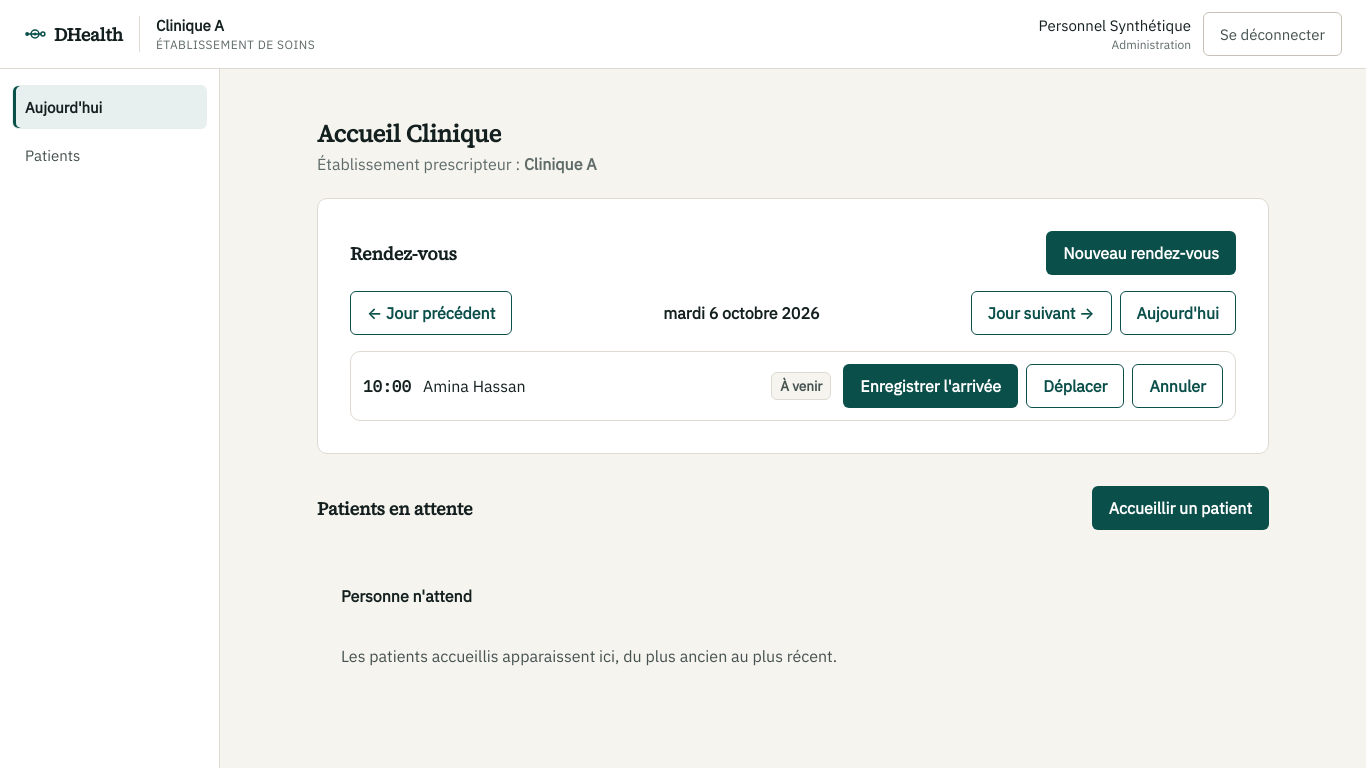
Scenario: ClinicAppointments — arrival › reports a patient who already has an active visit without claiming a failure
Check: the heading "Rendez-vous" is shown, box [350,240,457,266]
Step 1. Click the button "Enregistrer l'arrivée" → click(931, 386), box [843,364,1018,408]
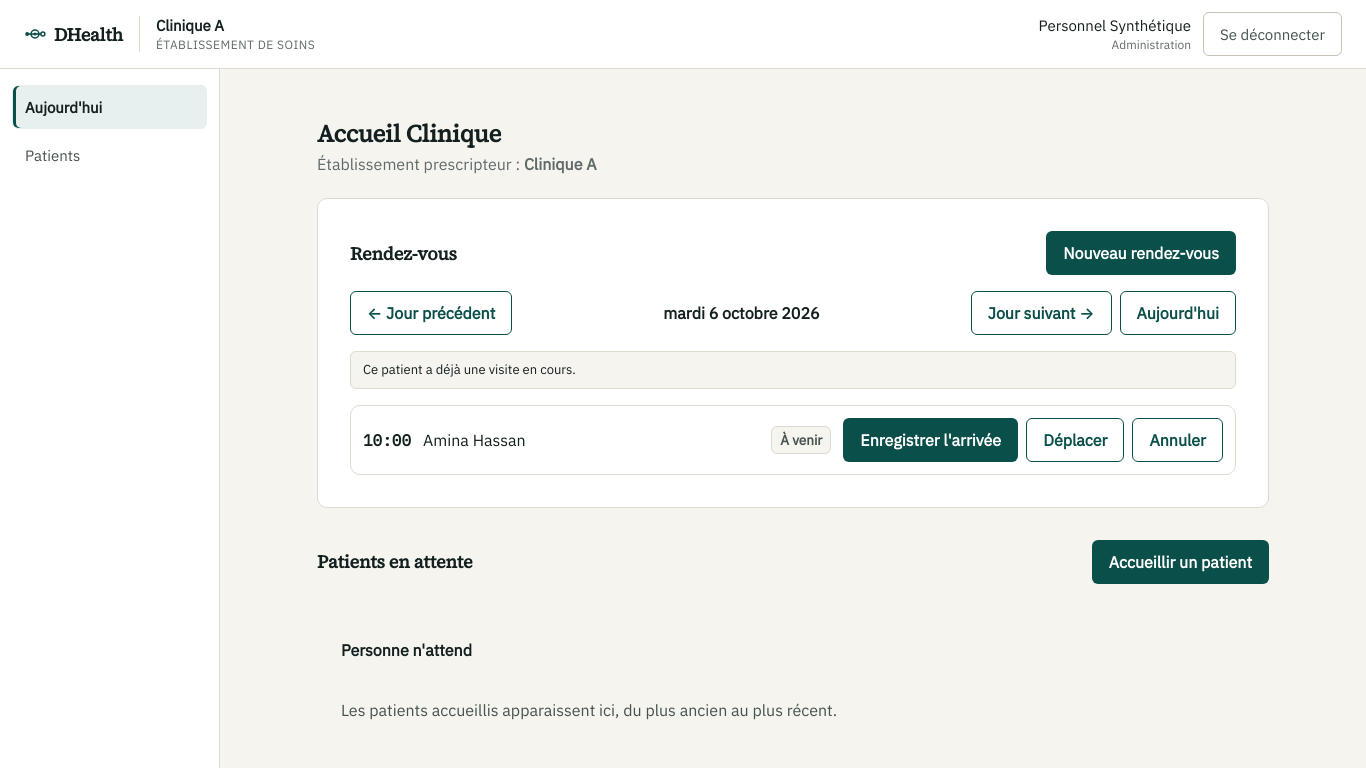
Check: the message reads "Ce patient a déjà une visite en cours.", box [363,361,576,378]
